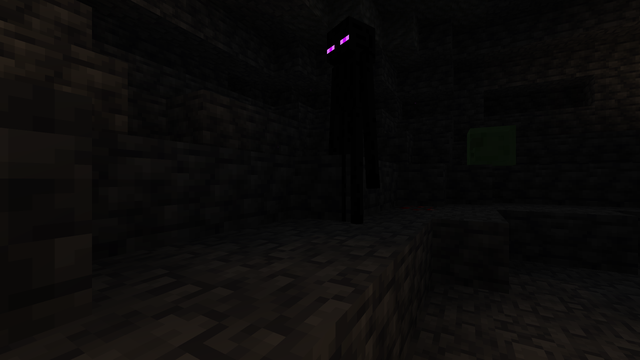endermens: (322, 6, 375, 227)
slimes: (467, 122, 515, 165)
